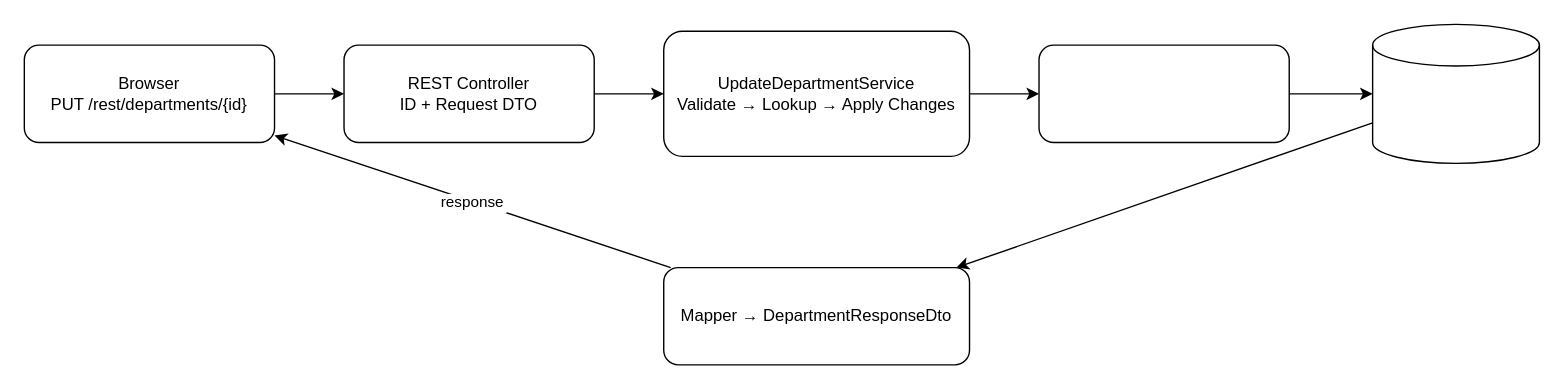
This 1564x389 diagram has some shape labels left out. The shapes that lost their labels are listed below. From the top down, each one's box as (x1, y1, x2, y2) in pixels, then its label:
(1038, 44, 1289, 142): DepartmentDao find current / save
(1371, 23, 1539, 163): PostgreSQL
